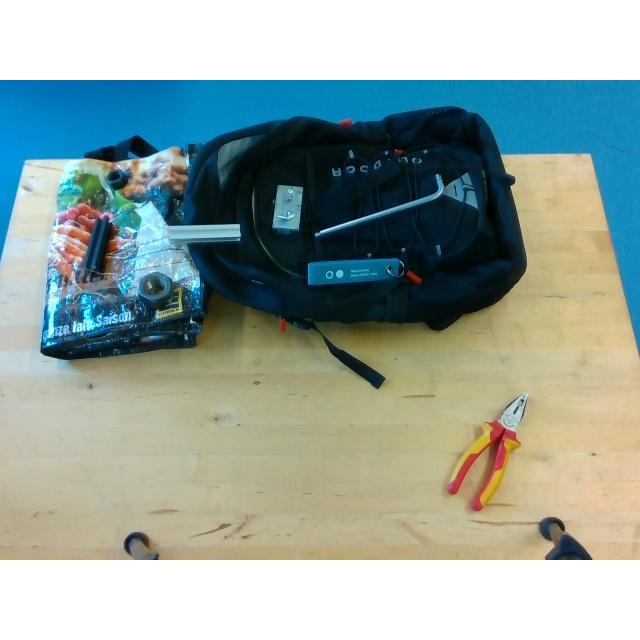AllenKey: (314, 174, 444, 238)
F20_20_B: (84, 216, 112, 276)
F20_20_G: (166, 222, 242, 244)
M20: (105, 168, 126, 190)
M30: (138, 272, 174, 300)
